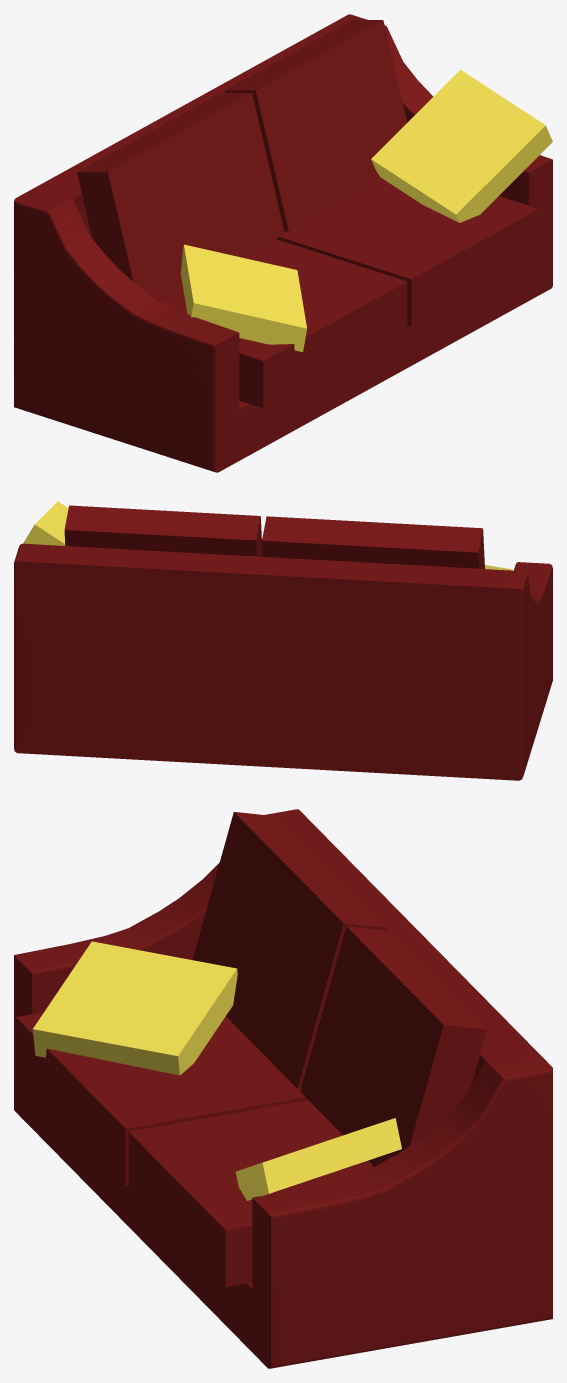
Rendered from Couch.obj.
The picture shows the model from 3 angles, top to bottom: view 1: azimuth 30°, elevation 25°; view 2: azimuth 150°, elevation 25°; view 3: azimuth 270°, elevation 25°; orthographic projection. The views are drawn at different scales.
Parts seen in each view (by area): view 1: Couch:Couch_Base1; view 2: Couch:Couch_Base1; view 3: Couch:Couch_Base1.
Part boxes in pixels (<box>): Couch:Couch_Base1: <box>14,14,552,472</box>; Couch:Couch_Base1: <box>14,501,552,780</box>; Couch:Couch_Base1: <box>14,809,552,1368</box>.
Bounding box in the file's own units: 8.96 × 3.86 × 6.56.
